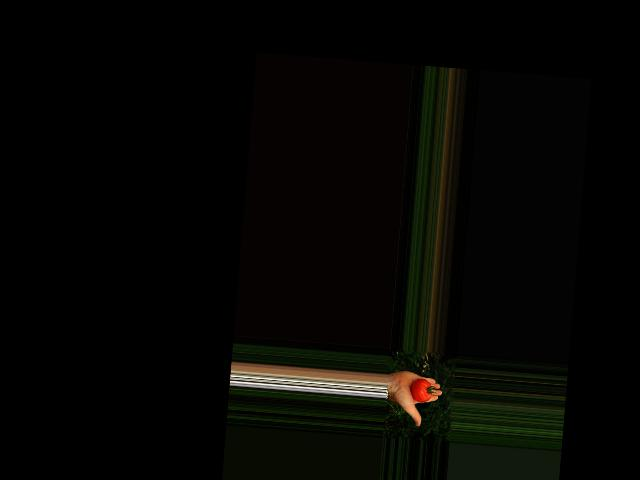tomato: (409, 377, 432, 402)
